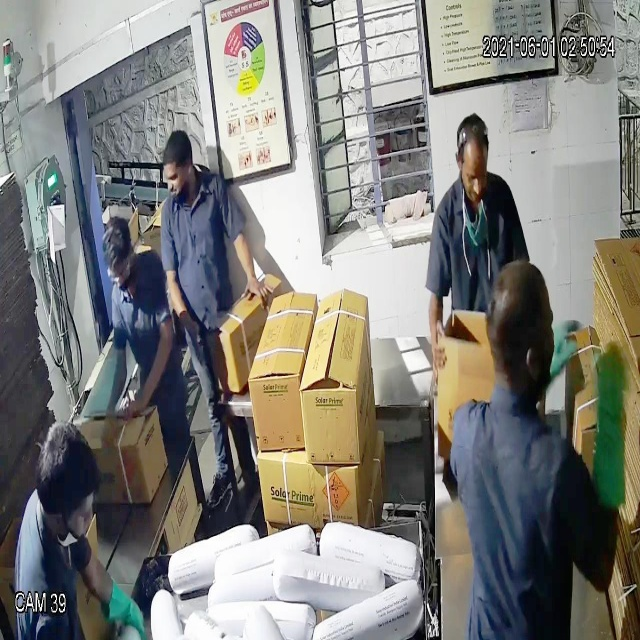Gafas: (103, 257, 140, 292)
Sin_gafas: (162, 159, 197, 193), (456, 159, 491, 191)
